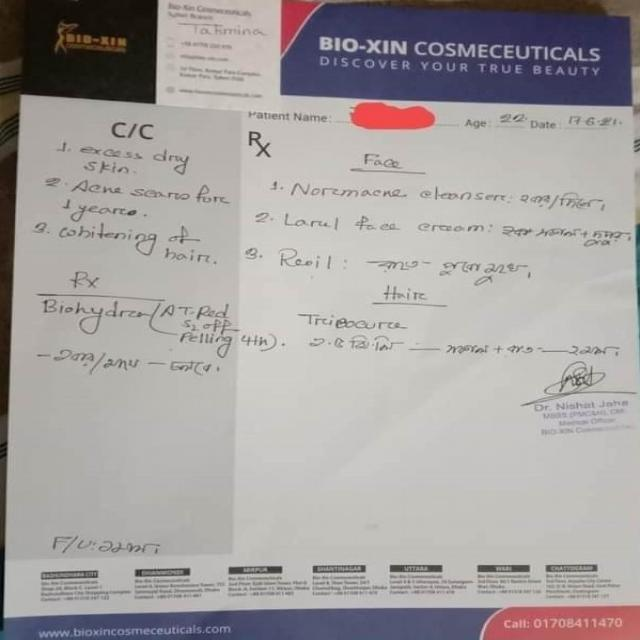Larel: (280, 210, 343, 236)
Normacne: (292, 180, 407, 207)
Reoil: (273, 243, 343, 277)
